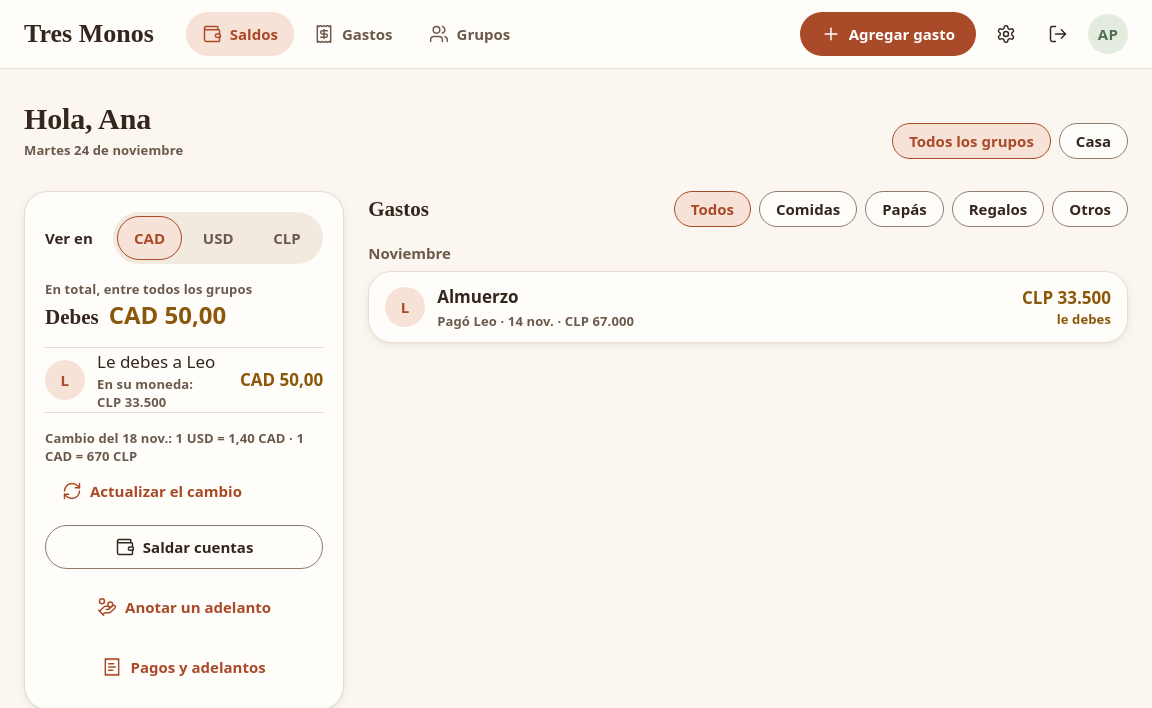
Test: DashboardScreen › exchange rates › explains that the services did not answer, and keeps the rates on screen
Click the button "Actualizar el cambio" at coordinates (152, 491), box [45,473,259,509]
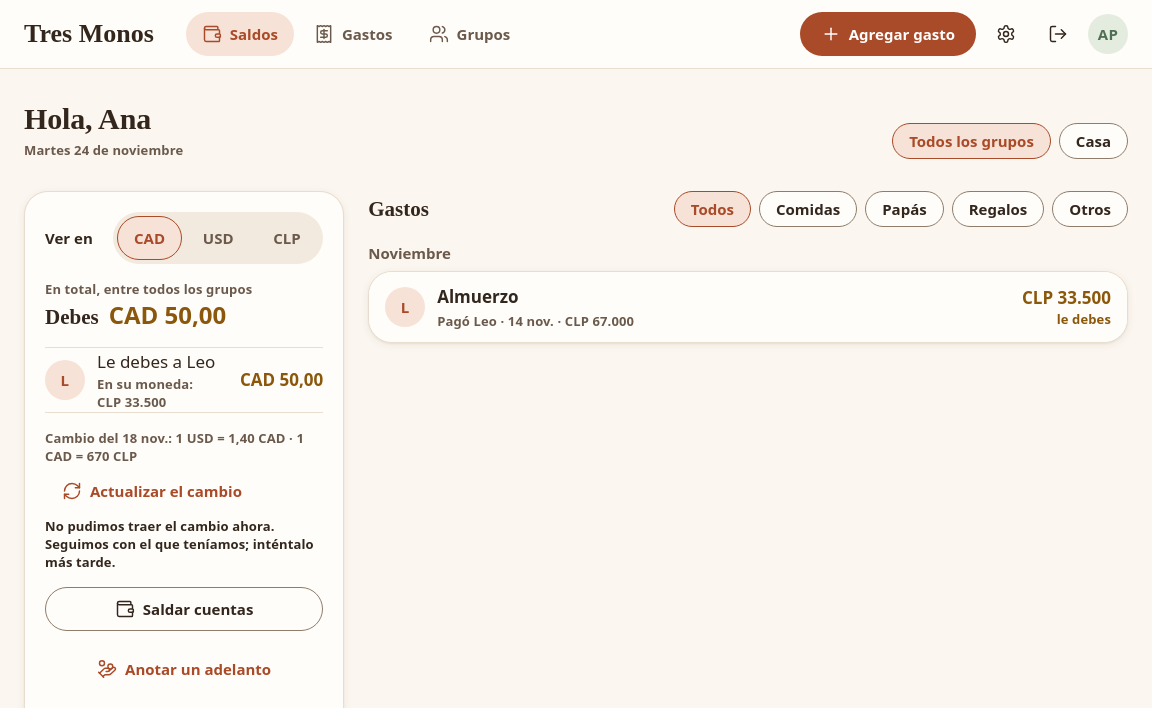
Expected: the text "Cambio del 18 nov.: 1 USD = 1,40 CAD · 1 CAD = 670 CLP" is shown, [45,429,323,465]
Expected: the message shows "No pudimos traer el cambio ahora. Seguimos con el que teníamos; inténtalo más tarde.", [45,517,314,571]
